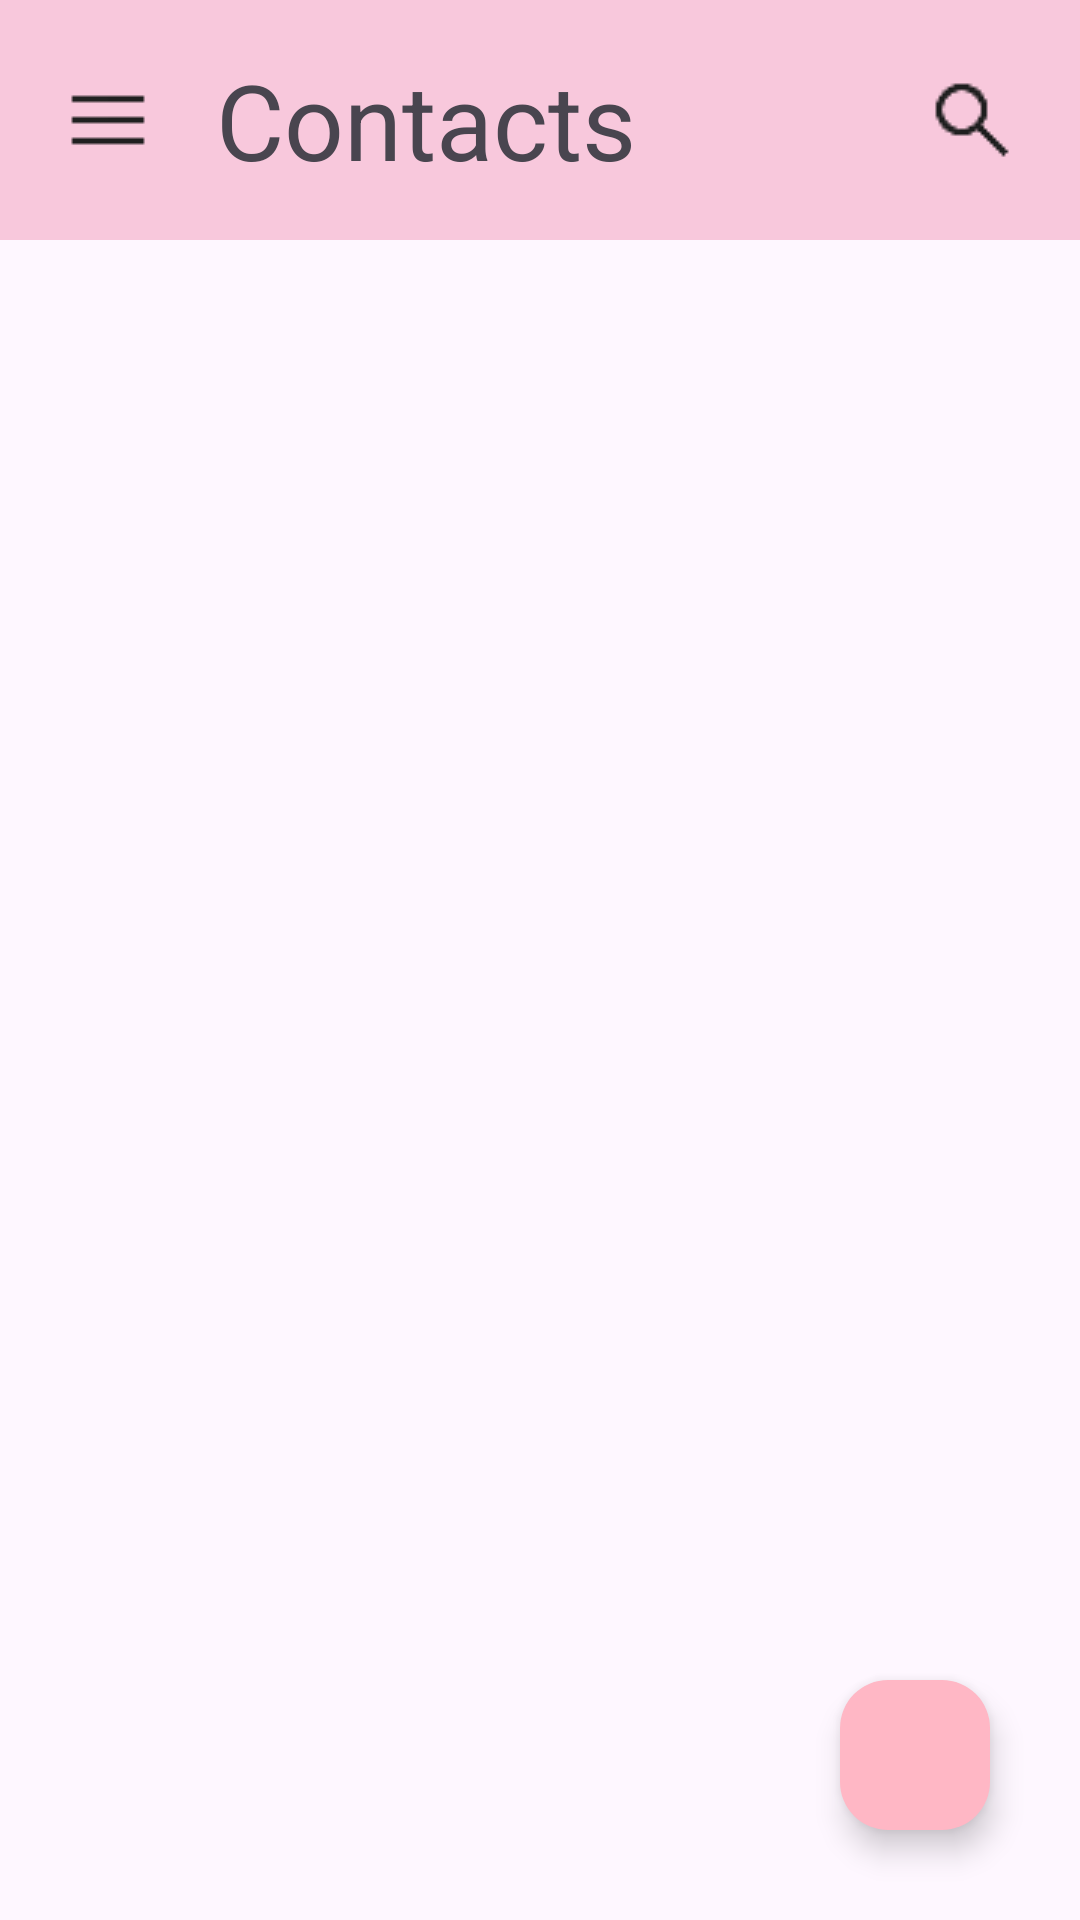

Named icons in this screenshot (1080w x 1920h) and their bounding boxes, (x1, y1, x2, y2):
menu: (71, 95, 145, 145)
search: (935, 83, 1009, 157)
